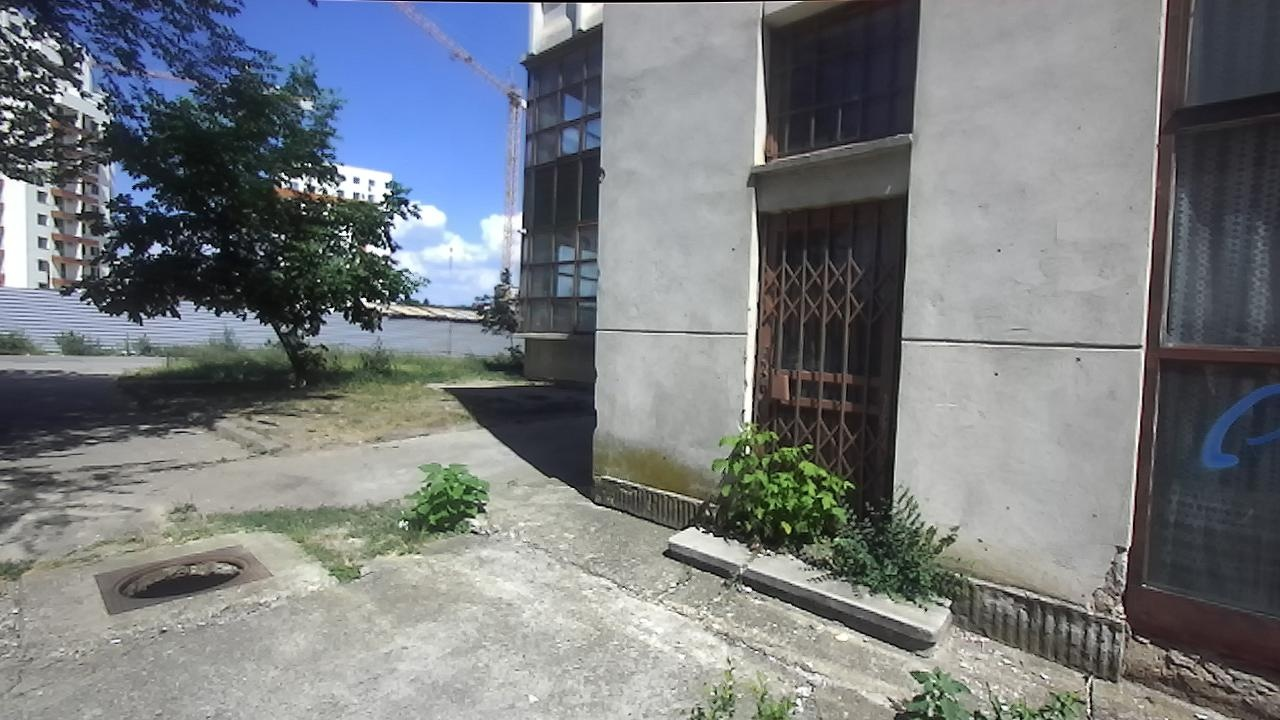drain: (117, 553, 255, 607)
